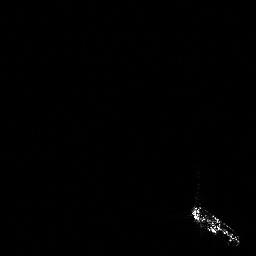ship: (185, 199, 244, 252)
